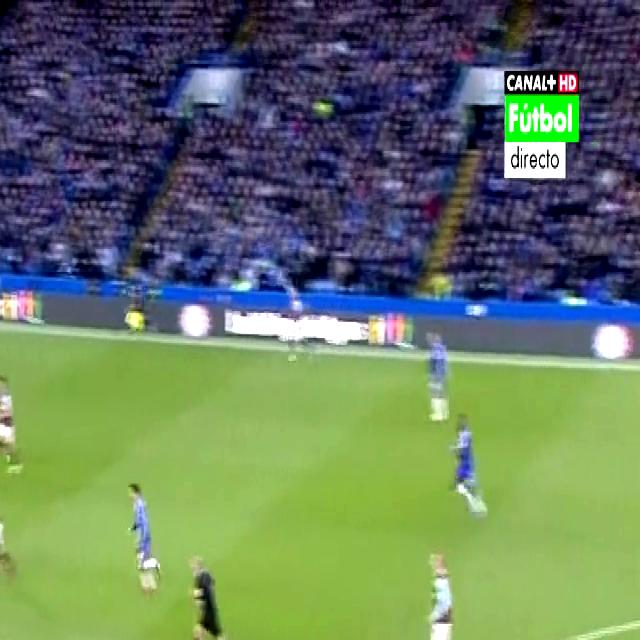referee: (184, 538, 247, 640)
soccer-player: (116, 470, 161, 607), (449, 404, 495, 526), (423, 537, 472, 640), (423, 320, 461, 438), (0, 361, 31, 483), (282, 268, 319, 362), (0, 474, 15, 596)
